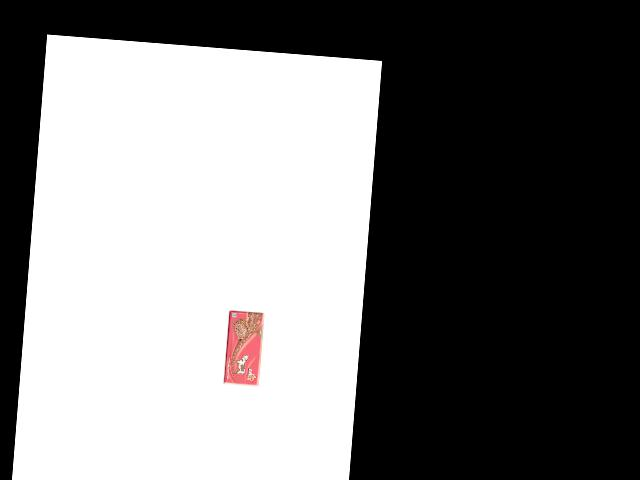chocolate: (230, 308, 272, 380)
